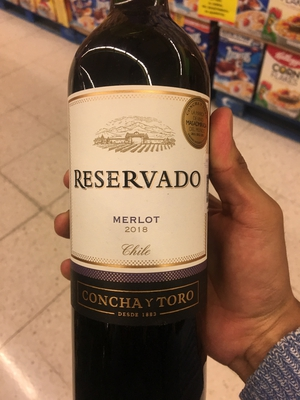reservado merlot: (60, 21, 213, 395)
